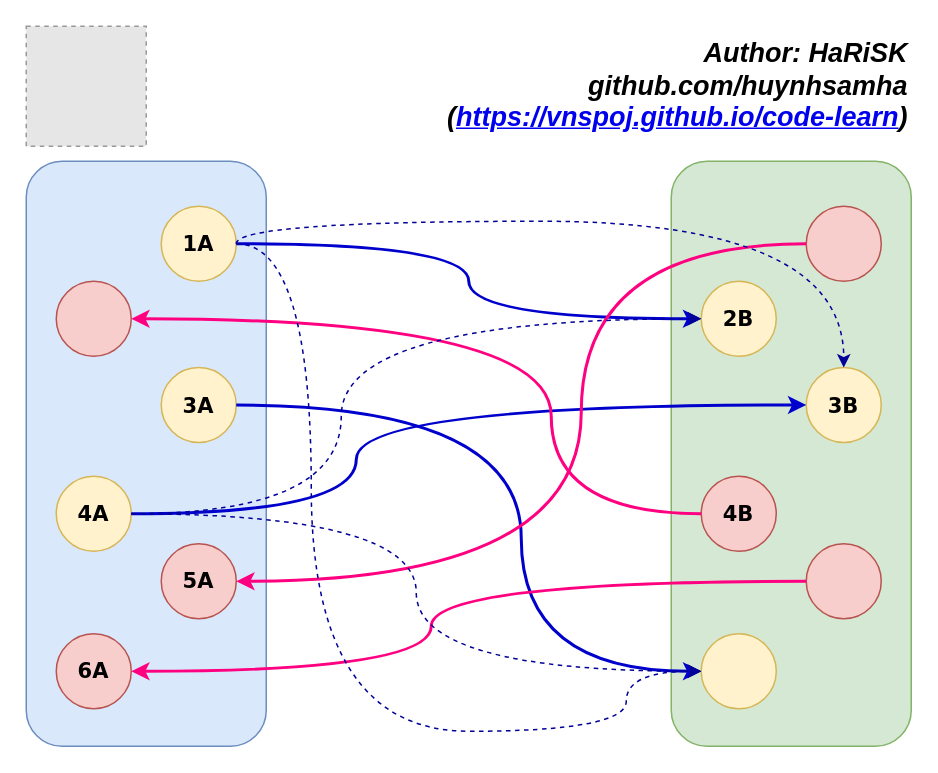
Image size: 938x773. Some labels were removed from this diagram. Grey dashed boxes stand in for pictures. The centre of each missing label's shape, as x and y in pixels:
"1B" belongs at (x=843, y=243).
"2A" belongs at (x=93, y=318).
"5B" belongs at (x=843, y=580).
"6B" belongs at (x=738, y=670).
